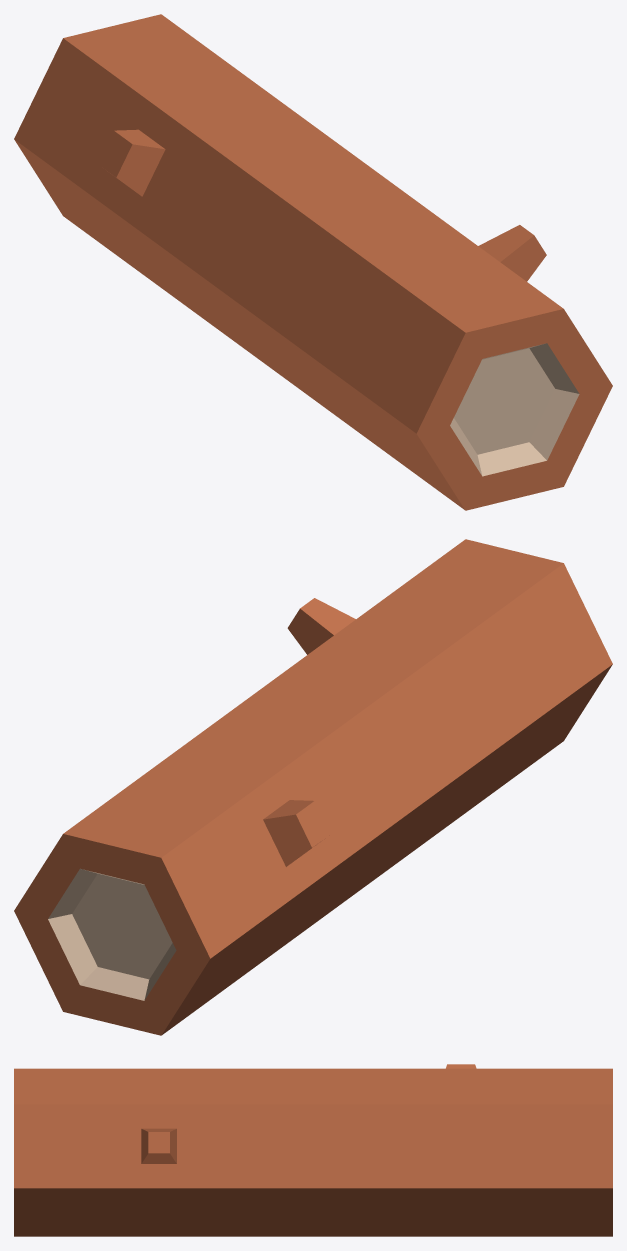
The model's file is log.glb.
The picture shows the model from 3 angles, top to bottom: view 1: azimuth 30°, elevation 25°; view 2: azimuth 150°, elevation 25°; view 3: azimuth 270°, elevation 25°; orthographic projection. The views are drawn at different scales.
Parts seen in each view (by area): view 1: log; view 2: log; view 3: log.
Part boxes in pixels (x1=…): log: x1=14, y1=14, x2=612, y2=510; log: x1=14, y1=539, x2=612, y2=1035; log: x1=14, y1=1064, x2=612, y2=1236.
Size of the model in its own units: 0.2339 by 0.1732 by 0.71.
